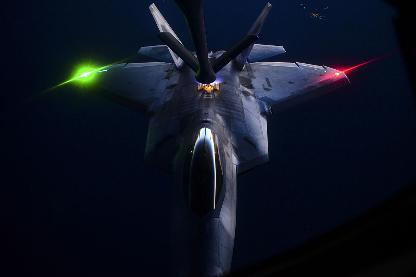F18: (70, 1, 350, 276)
